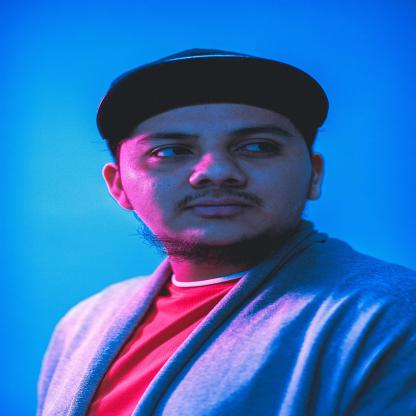Eye: (232, 138, 282, 158), (147, 144, 194, 163)
Mouth: (184, 198, 252, 216)
Nose: (189, 152, 247, 188)
